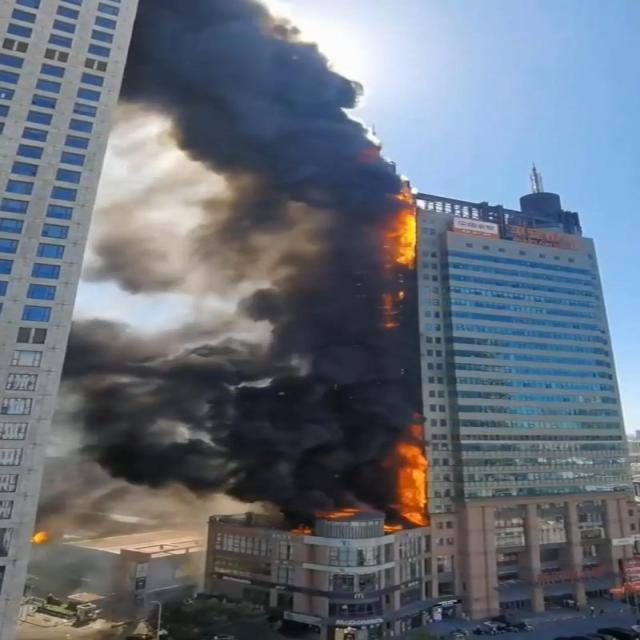Fire: (378, 432, 431, 528), (376, 182, 426, 272)
Smoke: (62, 0, 406, 513)
